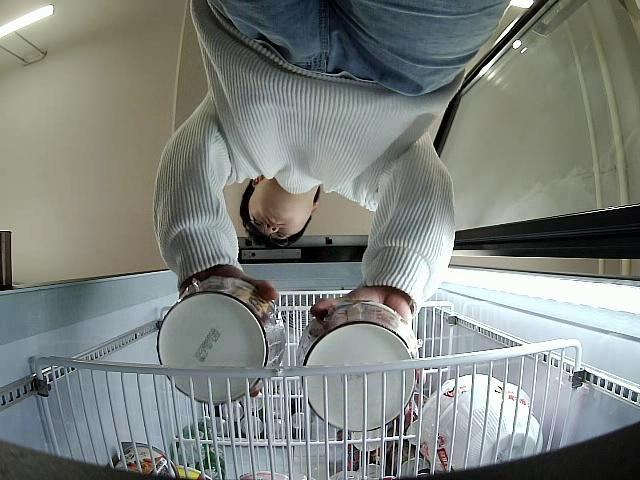05_nuguri_L: (157, 277, 288, 404), (297, 301, 418, 432)
